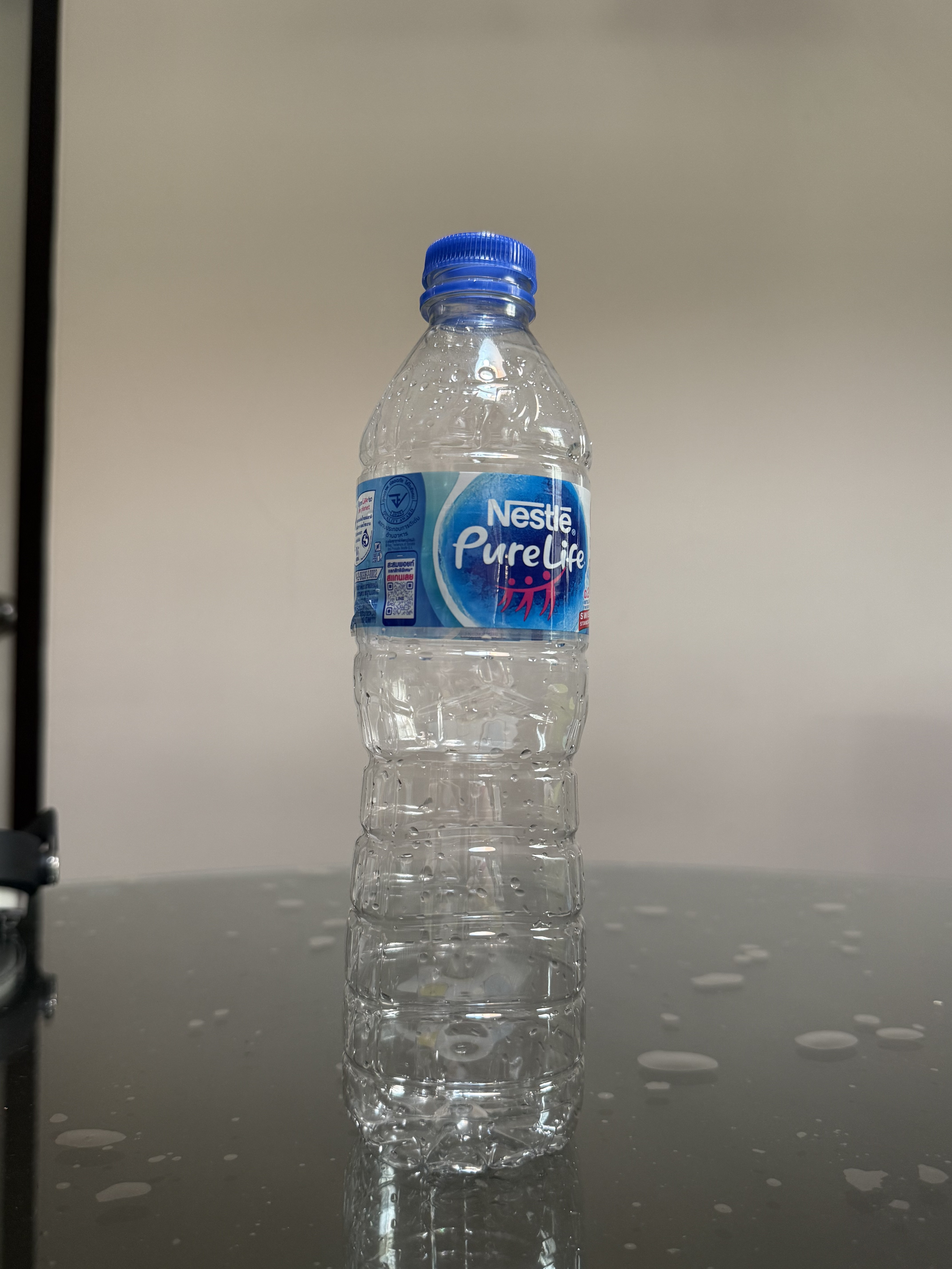half_cap: (417, 228, 539, 323)
